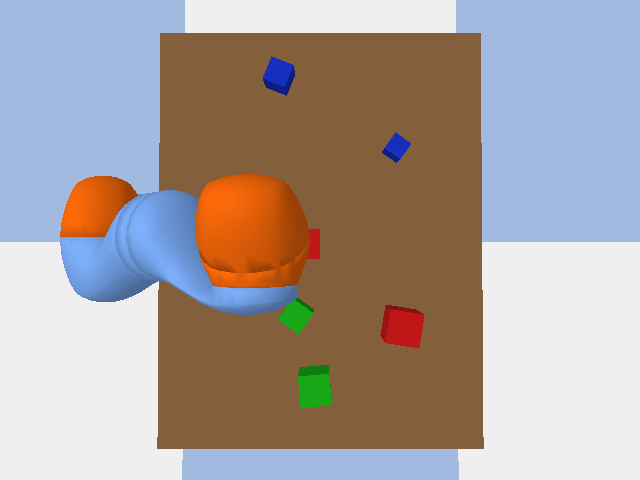blue_obj: (263, 56, 294, 95), (382, 132, 410, 162)
green_obj: (298, 365, 331, 407), (278, 298, 313, 334)
red_obj: (380, 305, 424, 348), (307, 229, 319, 258)
